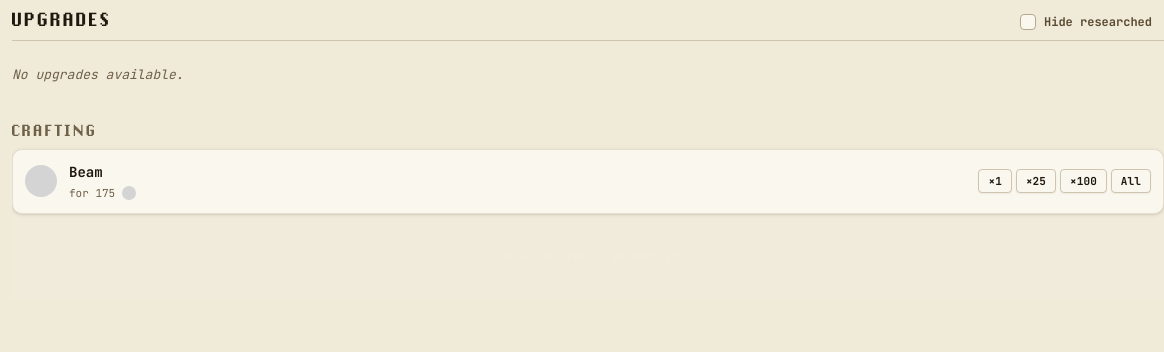
Test case: Story 47-02: Craft cost tooltips in inspector › hovering a craft button shows cost breakdown in inspector
This screenshot has width=1164, height=352.
Hover over the button with test id "craft-beam-s1" at (995, 181), box [978, 169, 1012, 193]
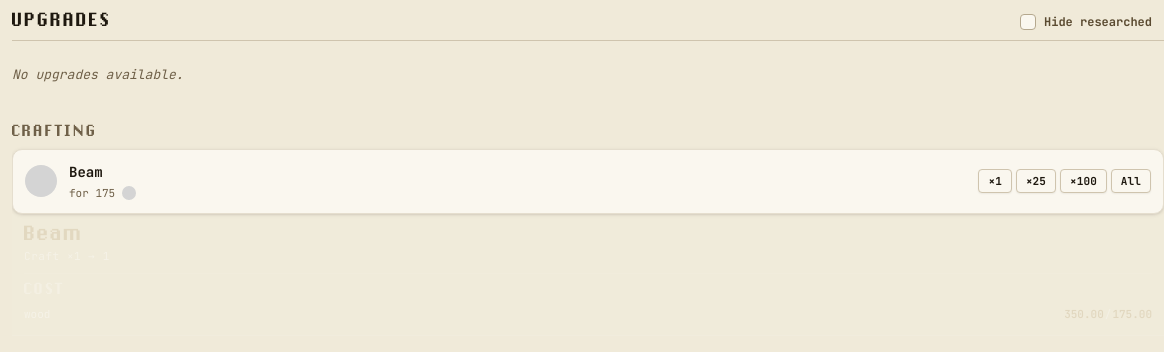
Expected: the element with test id "inspector-panel" is shown, [12, 214, 1163, 336]
Result: the element with test id "inspector-panel" shows "175" at [1112, 307, 1152, 321]
